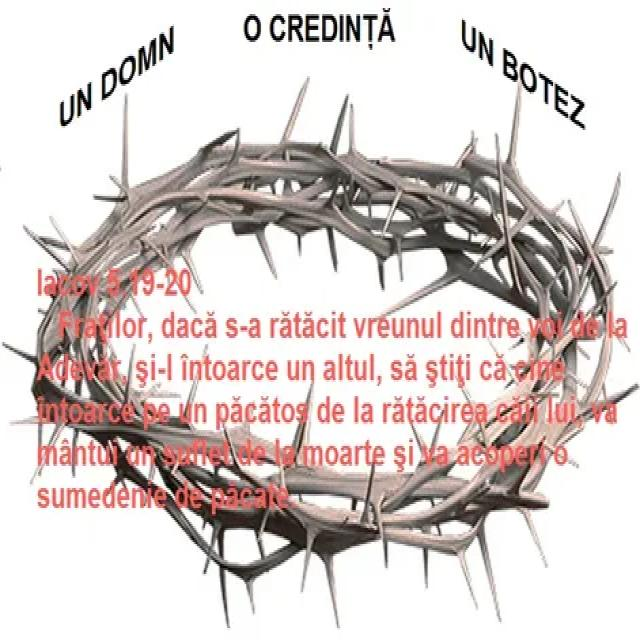crown: (18, 120, 629, 576)
